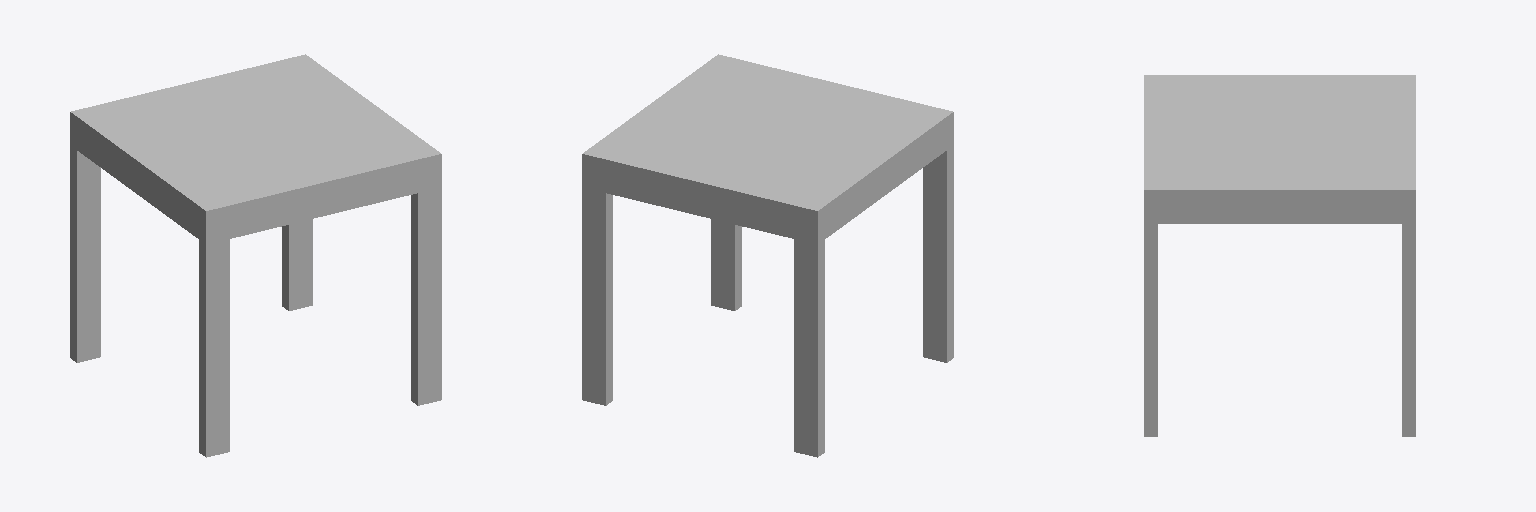
The model's file is SketchUp.011_ID112_SketchUp.011_ID112_Steve_Edges.obj.
3 views of the same model, side by side, from view 1: azimuth 30°, elevation 25°; view 2: azimuth 150°, elevation 25°; view 3: azimuth 270°, elevation 25° (orthographic).
Parts seen in each view (by area): view 1: SketchUp.011_ID112_SketchUp.011_ID112_Steve_Edges; view 2: SketchUp.011_ID112_SketchUp.011_ID112_Steve_Edges; view 3: SketchUp.011_ID112_SketchUp.011_ID112_Steve_Edges.
Part boxes in pixels (x1,y1,x2,y2): SketchUp.011_ID112_SketchUp.011_ID112_Steve_Edges: (70, 54, 441, 457); SketchUp.011_ID112_SketchUp.011_ID112_Steve_Edges: (582, 54, 953, 457); SketchUp.011_ID112_SketchUp.011_ID112_Steve_Edges: (1144, 75, 1415, 436).
Size of the model in its own units: 0.5588 by 0.5588 by 0.5588.